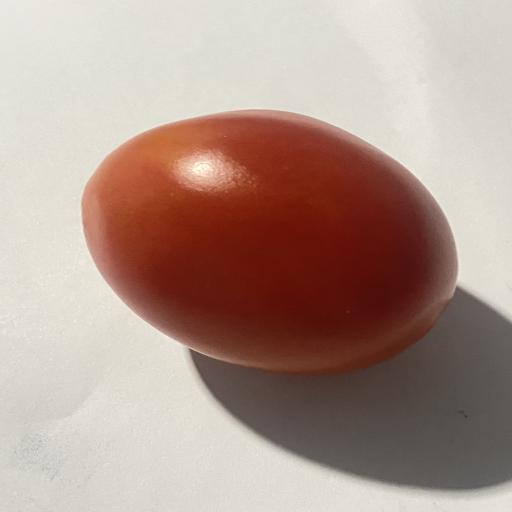ripe: (82, 110, 457, 373)
